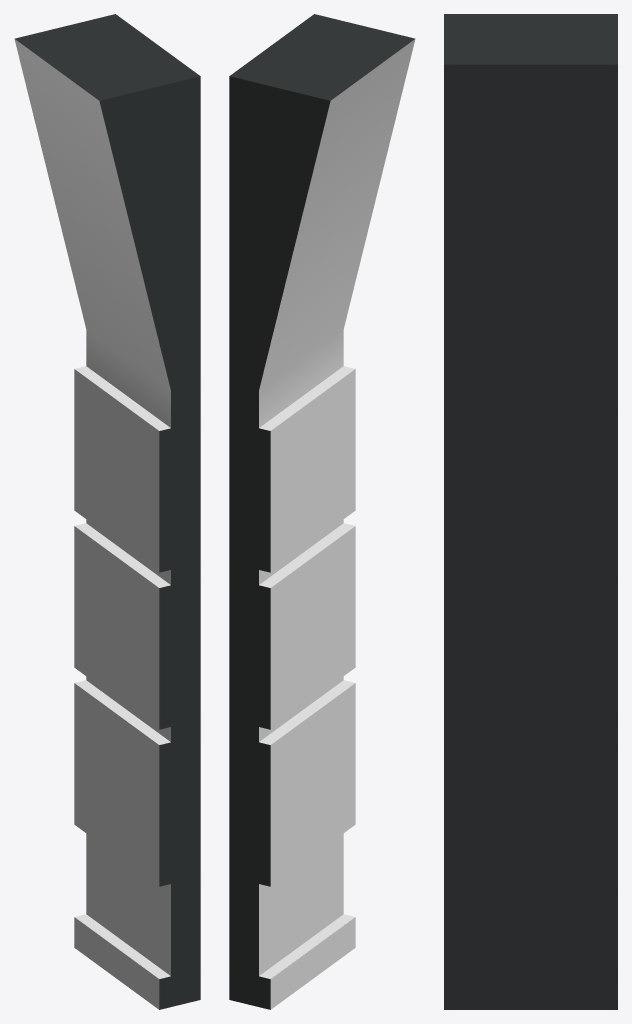
The model's file is Interior_Wall_Base.FBX.
3 views of the same model, side by side, from view 1: azimuth 30°, elevation 25°; view 2: azimuth 150°, elevation 25°; view 3: azimuth 270°, elevation 25° (orthographic). The views are drawn at different scales.
Parts seen in each view (by area): view 1: sciana; view 2: sciana; view 3: sciana.
Boxes of the visible parts, x1,y1,x2,y2 form: sciana: (14, 14, 200, 1009); sciana: (229, 14, 415, 1009); sciana: (444, 14, 617, 1009).
Size of the model in its own units: 13.54 by 118 by 19.69.
